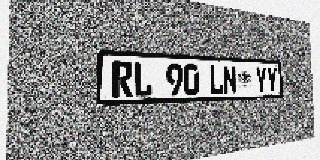0: (183, 64, 199, 95)
9: (166, 63, 183, 96)
L: (133, 62, 152, 97), (209, 65, 223, 95)
N: (223, 65, 237, 94)
R: (112, 61, 133, 98)
Y: (255, 67, 267, 93), (266, 67, 278, 93)
